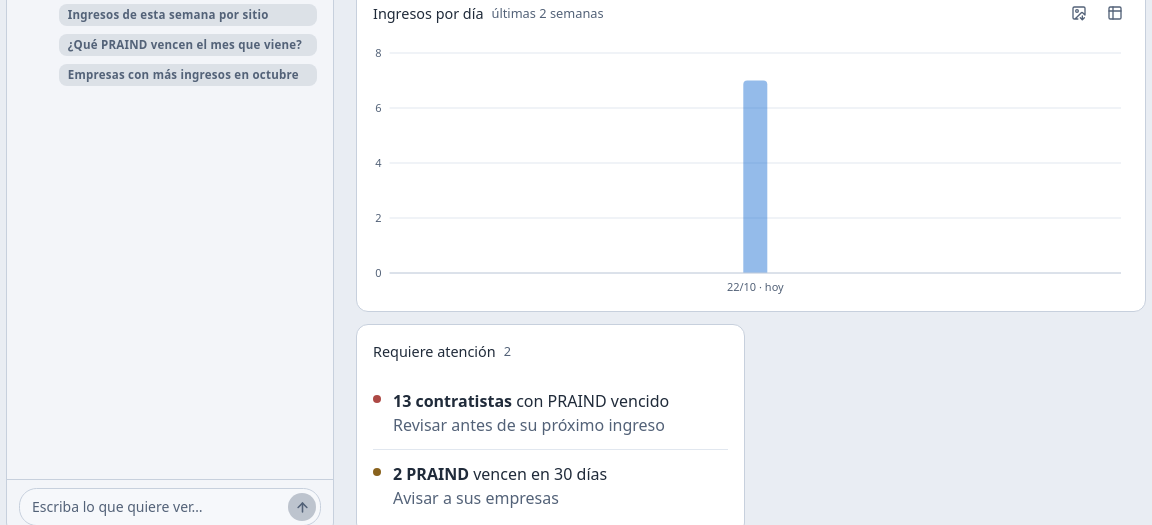
Asistente › chat: si falla la red o el modelo, Reintentar vuelve a pedir lo mismo sin reescribirlo
The width and height of the screenshot is (1152, 525).
(page scrolled)
Type "ingresos de hoy" into the text box named "Mensaje para el asistente".
click(156, 507); type("ingresos de hoy")  # box [32,493,280,521]
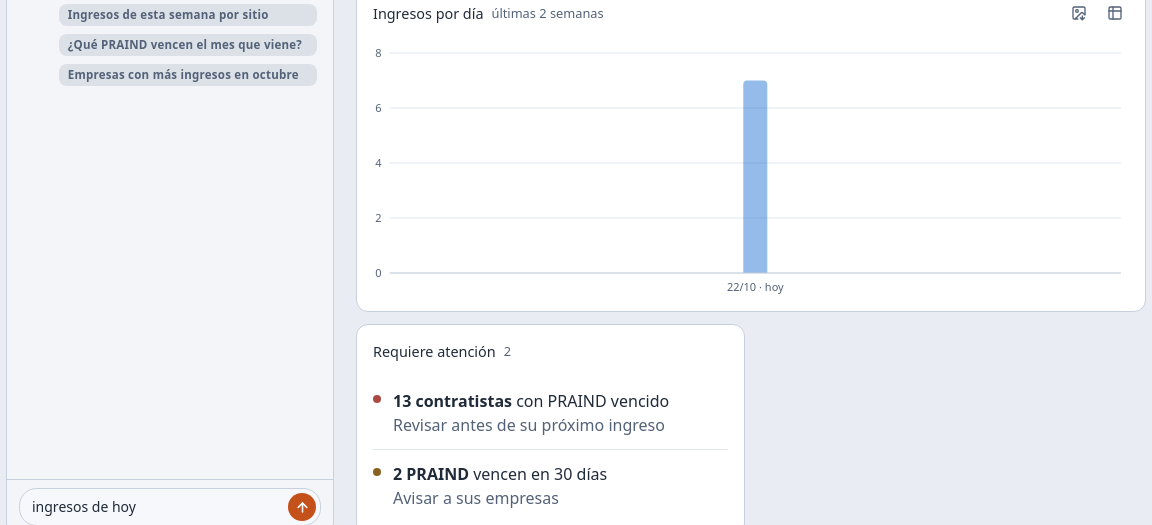
Click the button named "Enviar".
click(302, 507)  # box [288,493,316,521]
(page scrolled)
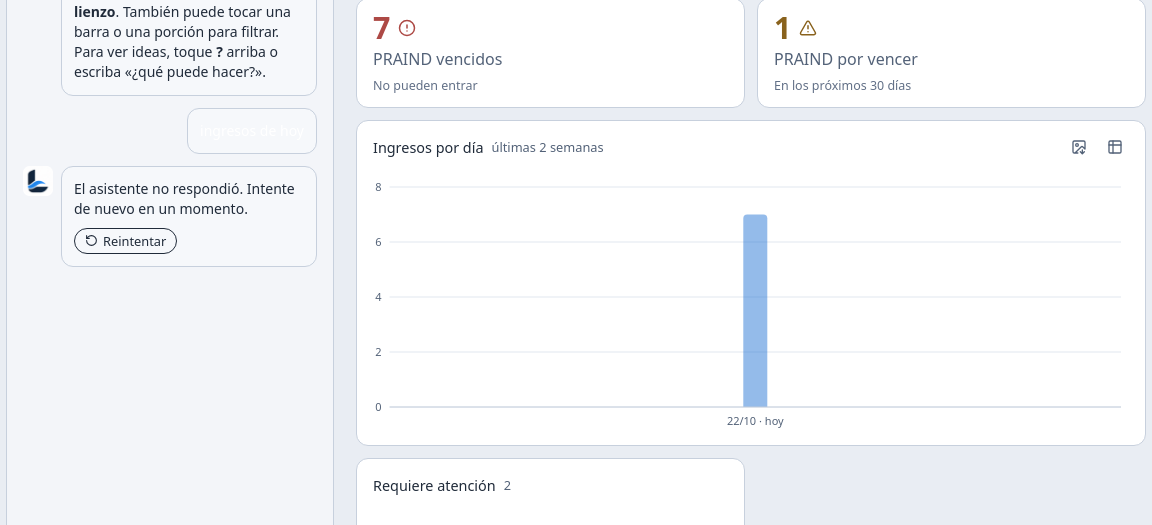
Click the button "Reintentar".
click(126, 241)  # box [74,228,177,254]
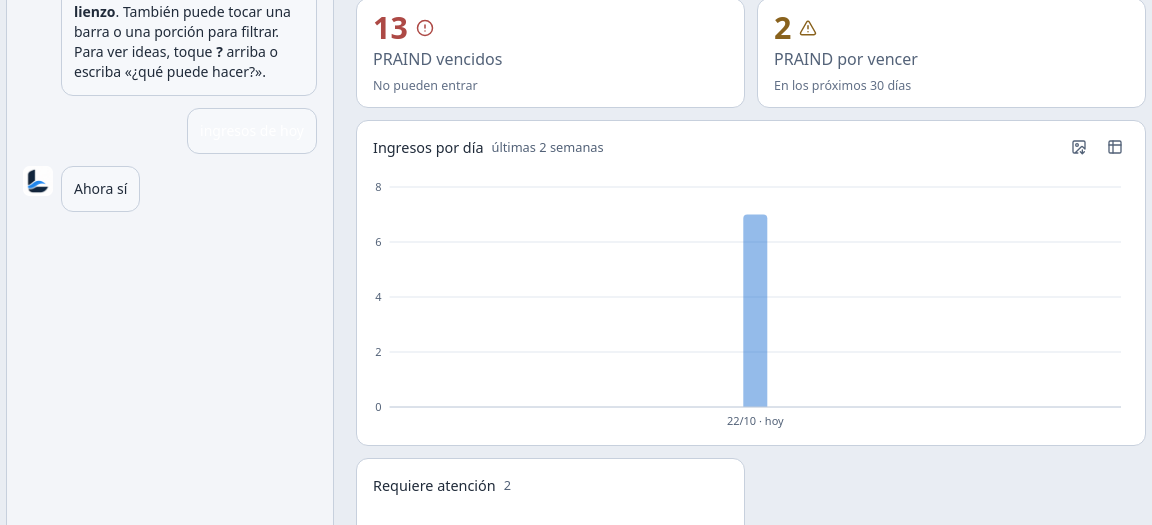
Result: the text "ingresos de hoy" is shown at [187,108,317,154]
Result: the text "Ahora sí" is shown at [61,166,140,212]
Result: the text "no respondió" is gone
